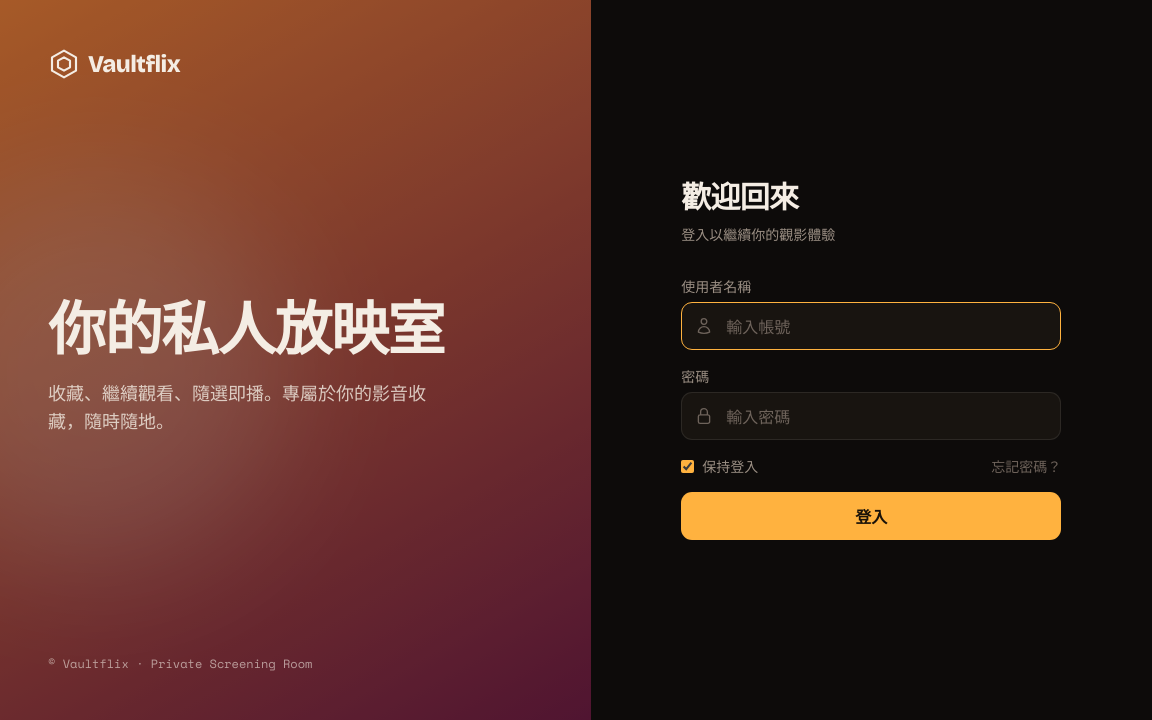
it: LoginPage › says why a login failed: disabled account
Type "steven" into the field with placeholder "輸入帳號" at [871, 326], box [681,302,1061,350]
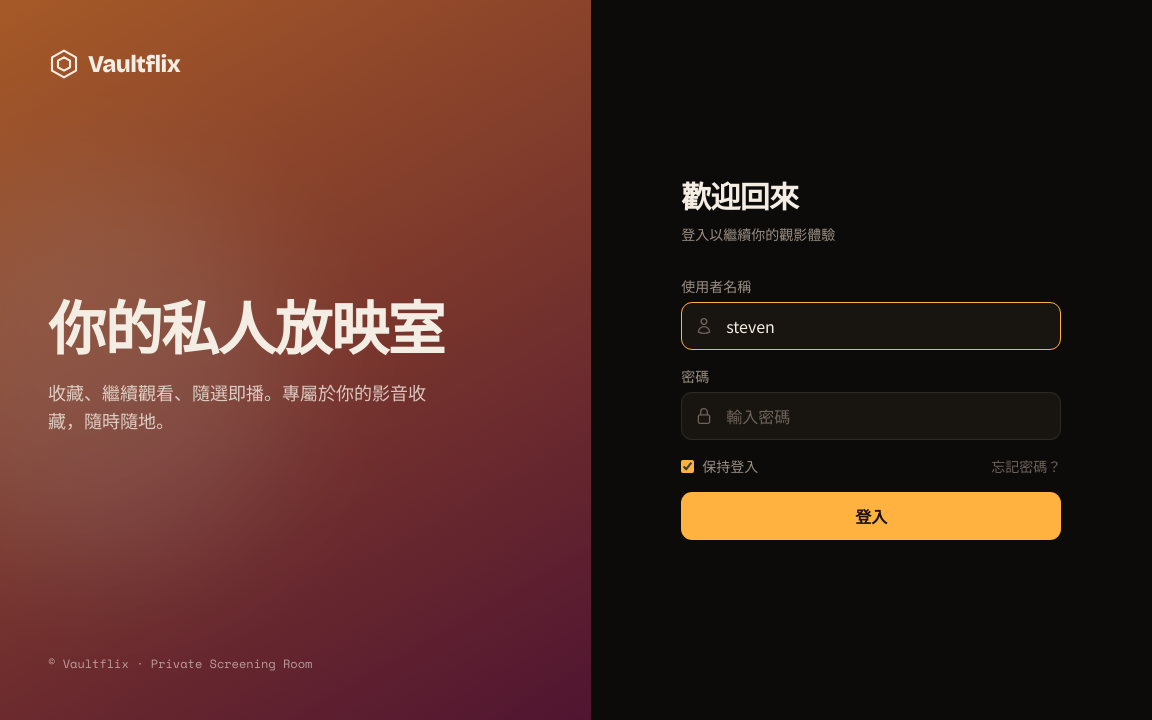
Type "wrong" into the password field with placeholder "輸入密碼" at [871, 416], box [681,392,1061,440]
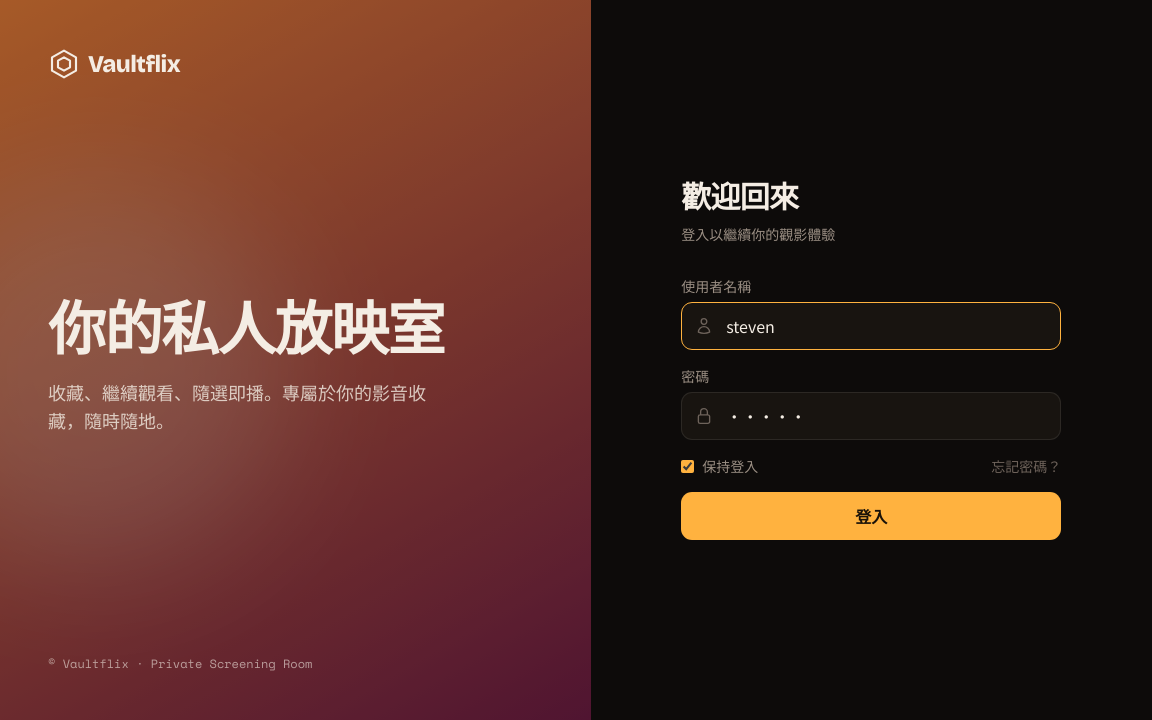
Submit the form with placeholder "輸入密碼", box [681,276,1061,540]
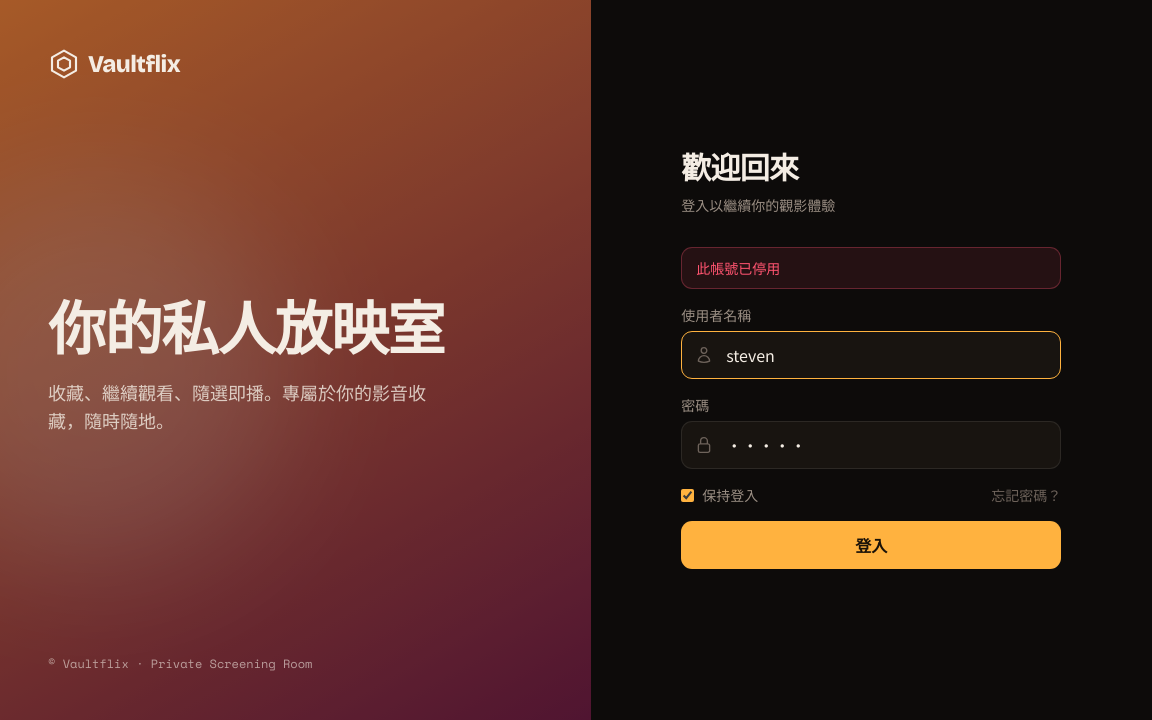
Now the button "此帳號已停用" is shown, box [681,247,1061,289]
